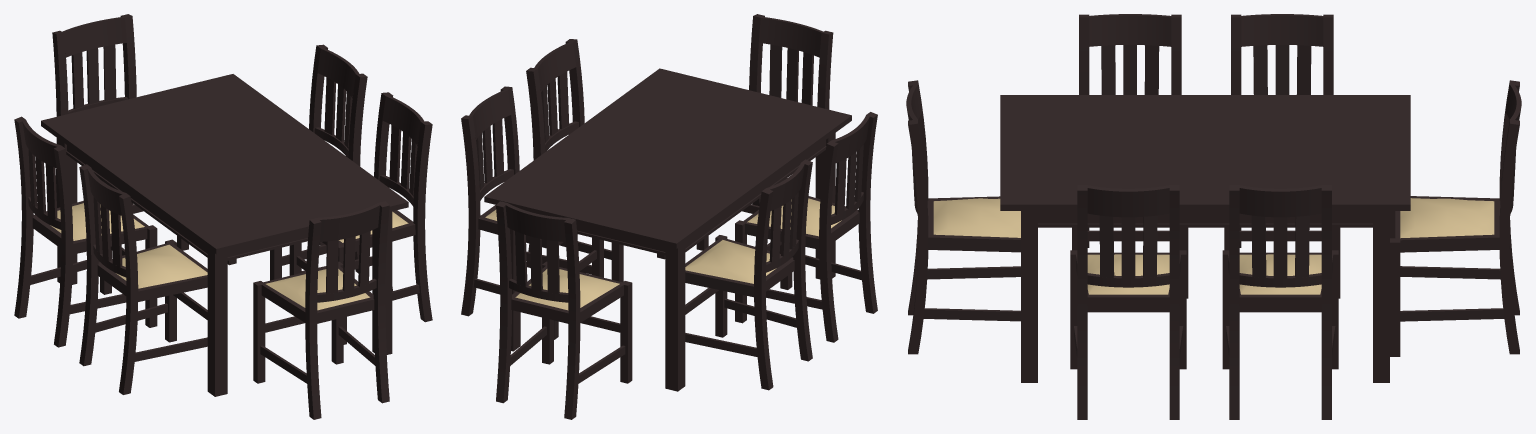
Rendered from diner_table.dae.
The picture shows the model from 3 angles, left to right: view 1: azimuth 30°, elevation 25°; view 2: azimuth 150°, elevation 25°; view 3: azimuth 270°, elevation 25°; orthographic projection. The views are drawn at different scales.
Visible parts, largest first — view 1: skp9BAC (×37); view 2: skp9BAC (×37); view 3: skp9BAC (×34).
Part boxes in pixels (x1,y1,x2,y2): skp9BAC (×37): (14, 14, 432, 419); skp9BAC (×37): (461, 14, 877, 419); skp9BAC (×34): (906, 14, 1521, 419).
Size of the model in its own units: 61.51 by 90.01 by 37.22.
